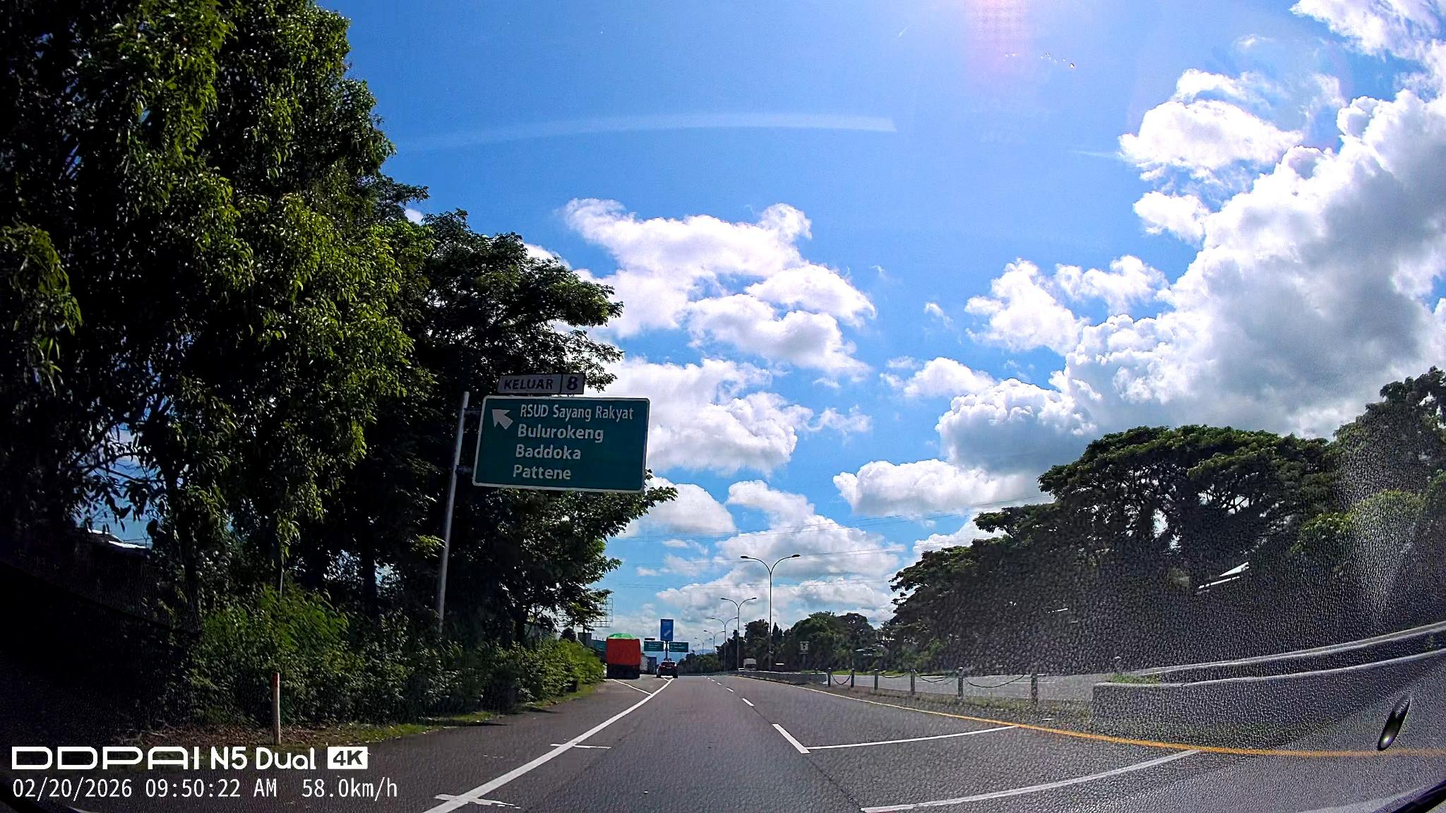rambu_teks: (471, 394, 652, 495)
